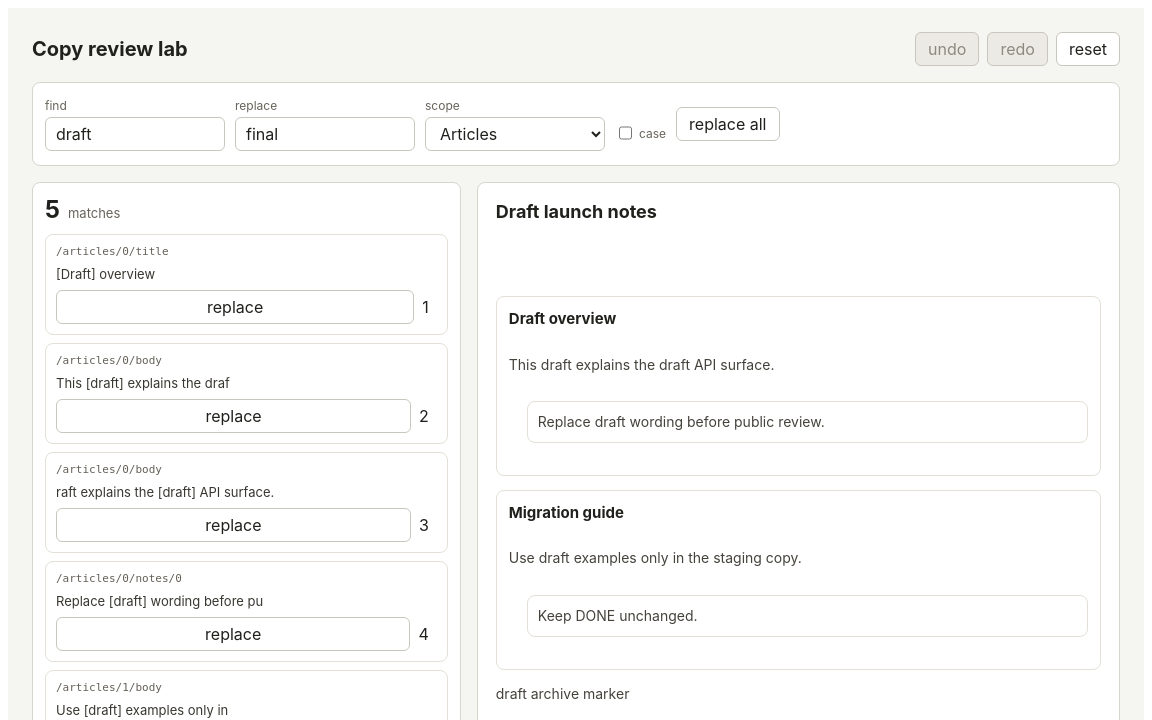
Test: copy review lab dogfood › replaces one current match through the extension target
The width and height of the screenshot is (1152, 720).
Click the button "replace" below "/articles/0/title": (235, 307) [56, 290, 414, 324]
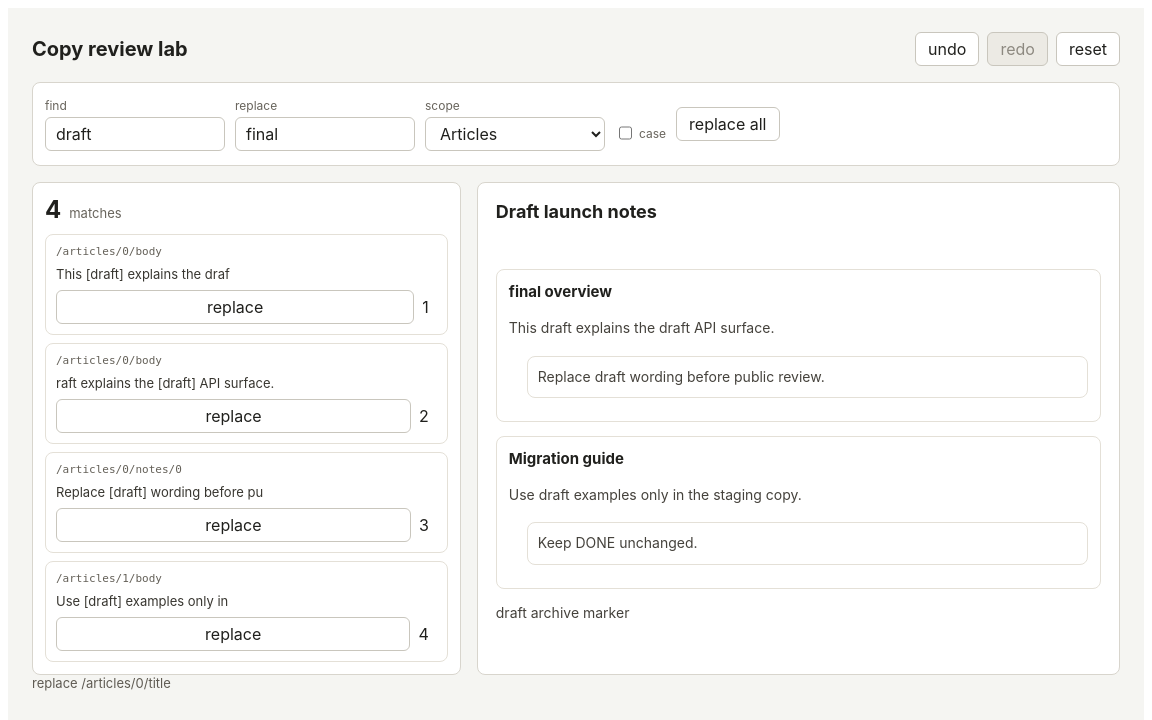
Expected: the element named "copy document" shows "This draft explains", [509, 319, 774, 336]
Expected: the element named "copy document" shows "final overview", [509, 282, 612, 301]
Expected: the message reads "replace /articles/0/title", [32, 675, 171, 691]
